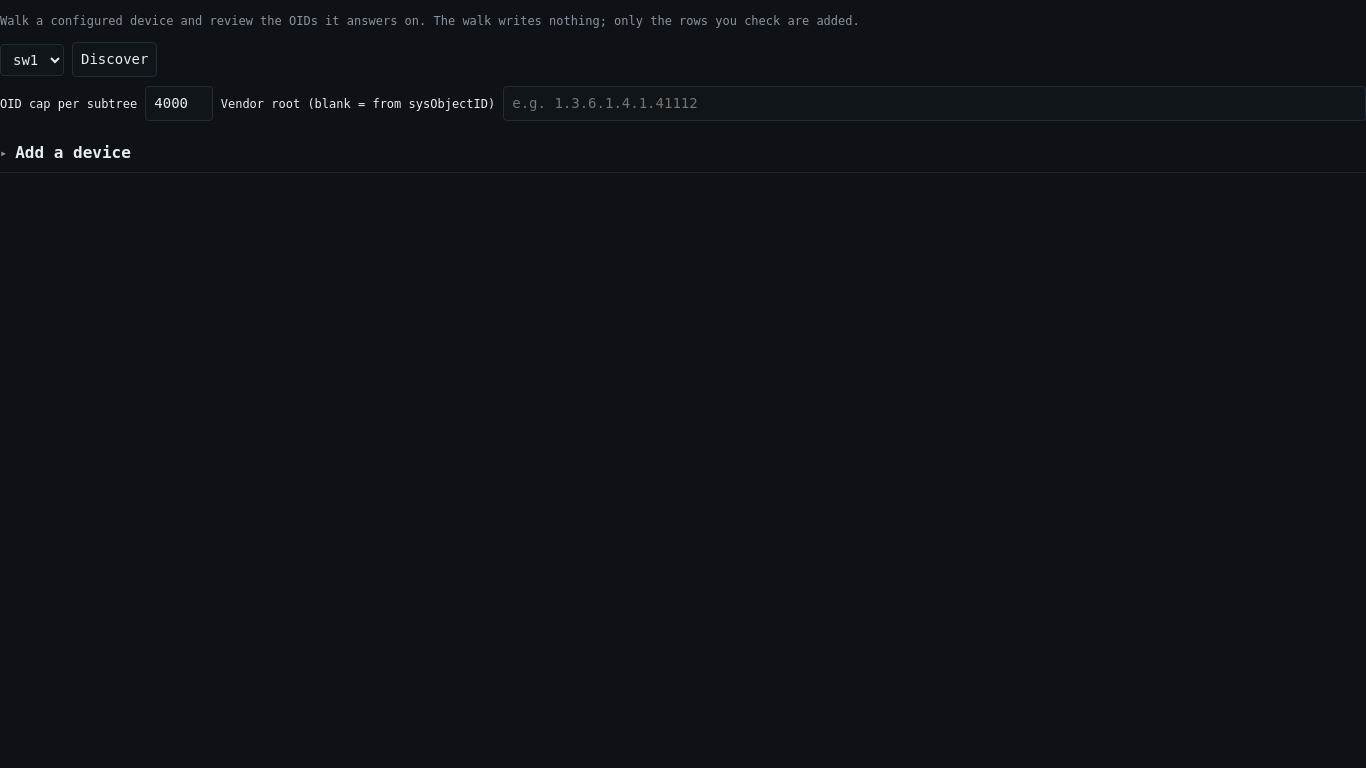
Test: opens the shared token dialog on a 401 apply
Click the button "Discover" at (115, 60), box [72,42,157,77]
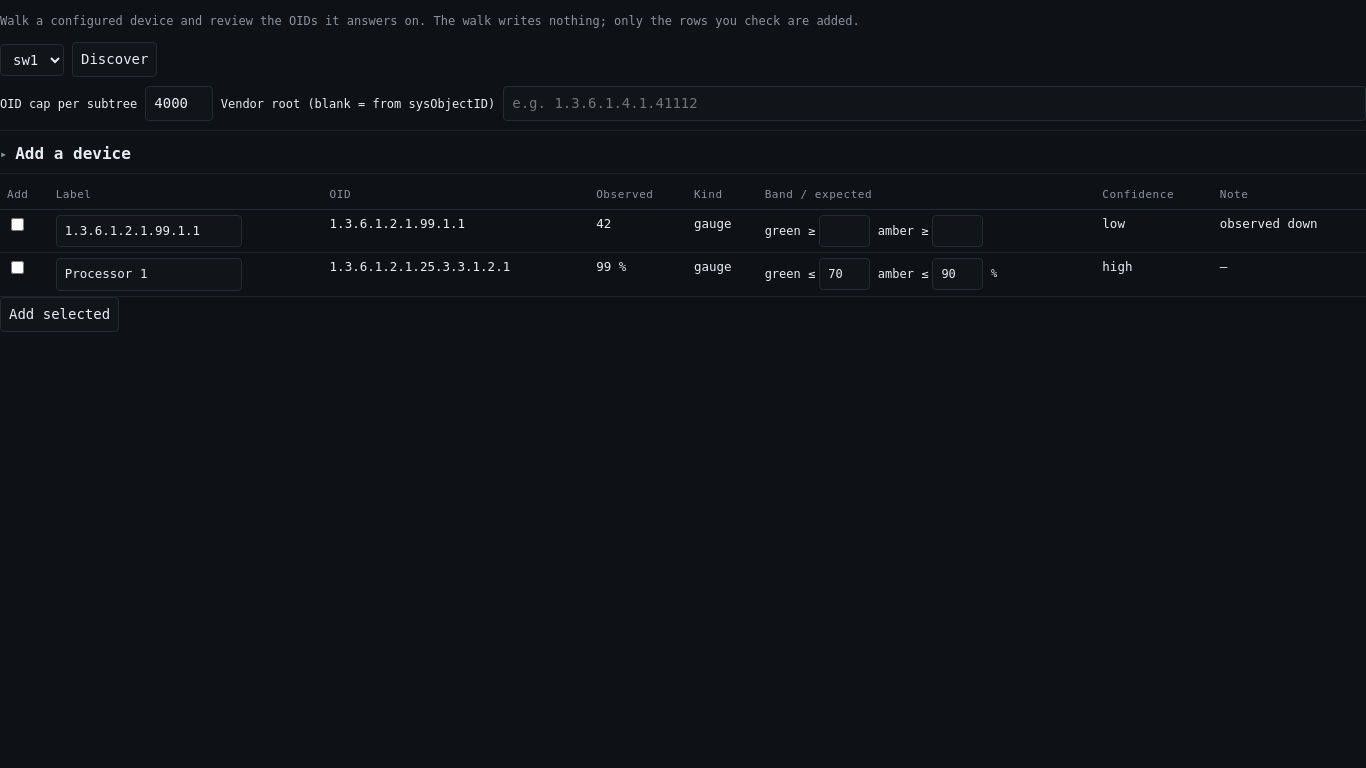
Type "100" into the number field labelled "green ≥" at (844, 230), box [819,214,870,246]
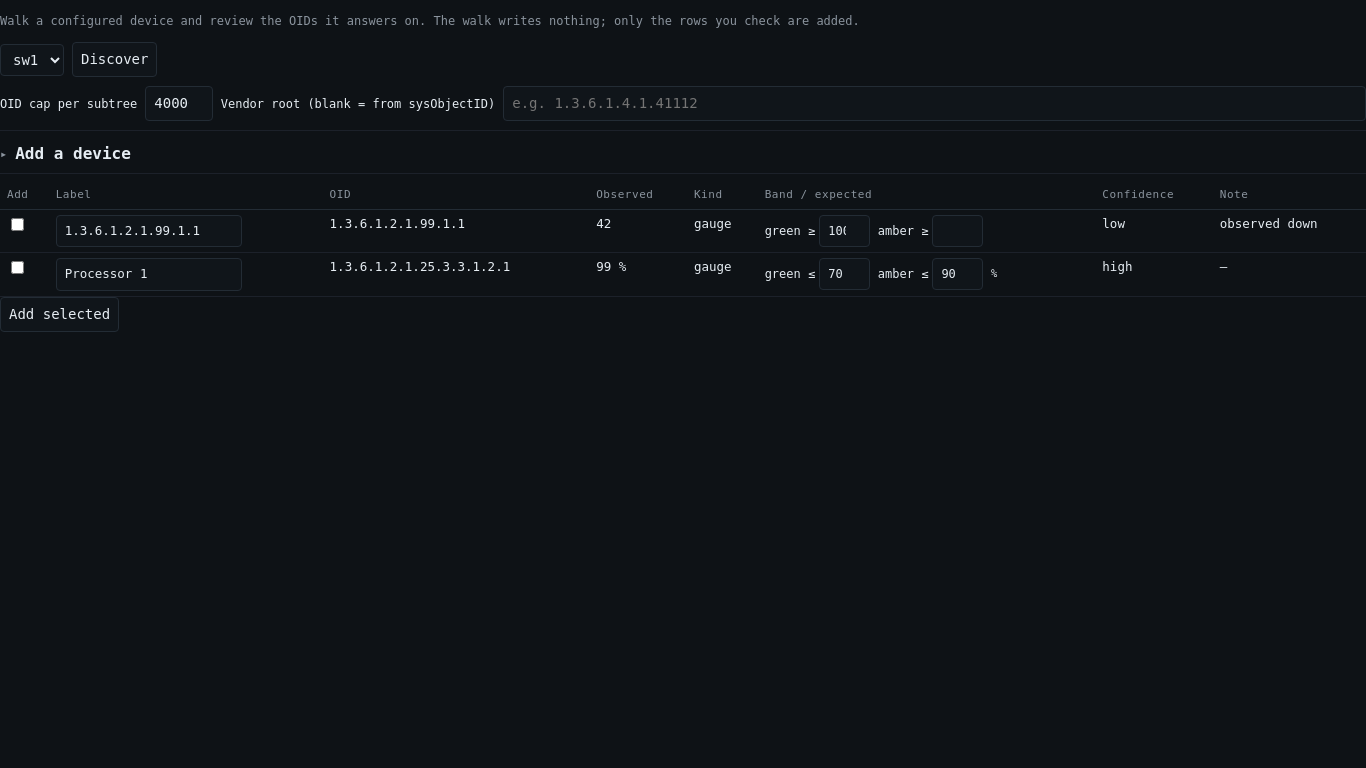
Type "80" into the number field labelled "amber ≥" at (958, 230), box [932,214,983,246]
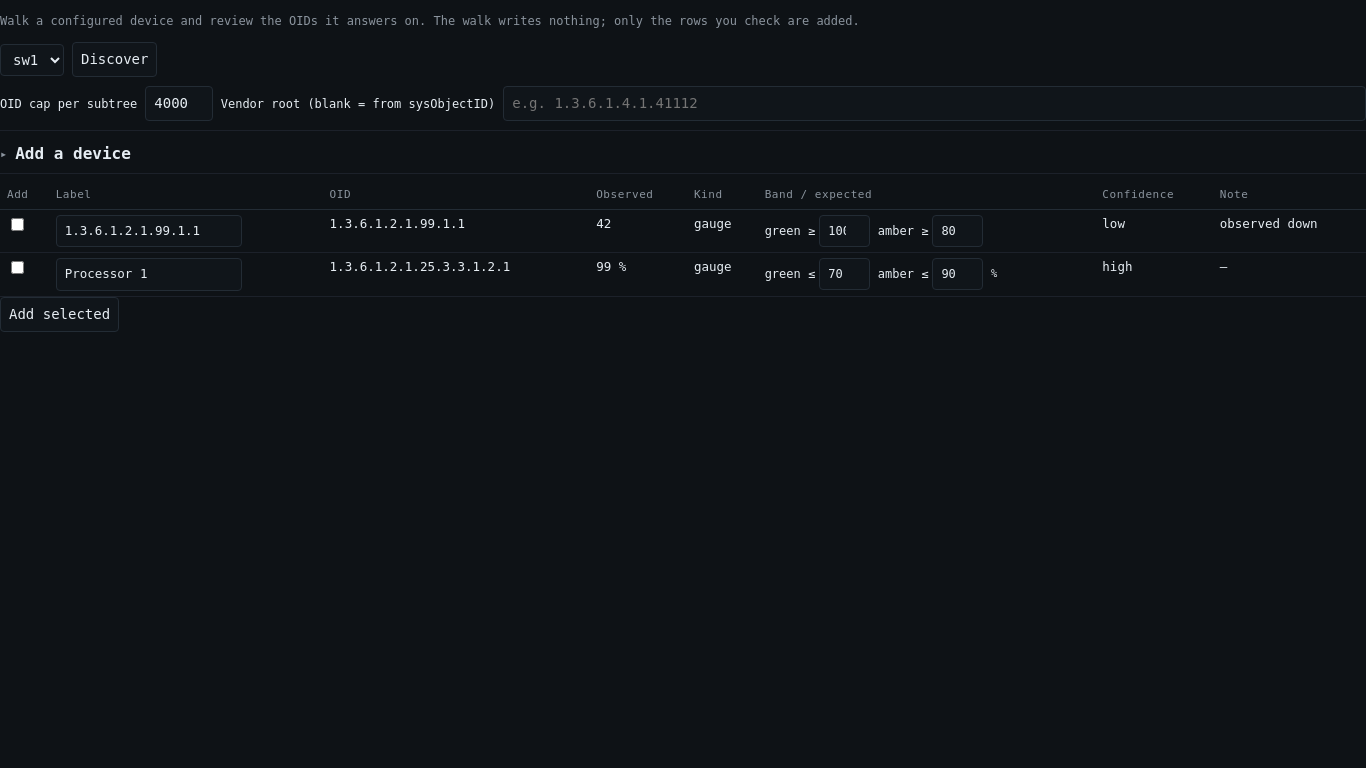
Click the checkbox named "Add 1.3.6.1.2.1.99.1.1" at (18, 224), box [11,218,24,230]
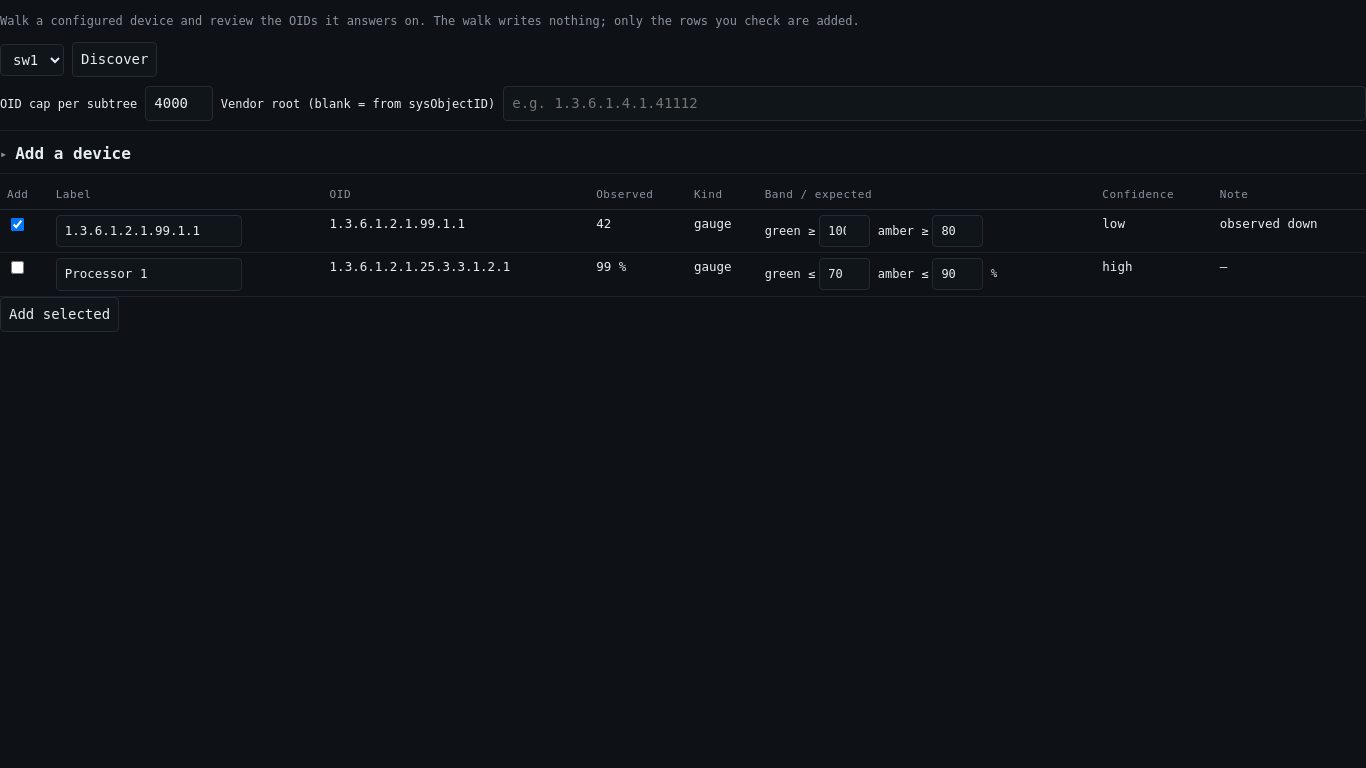
Click the button "Add selected" at (60, 314), box [0,297,119,332]
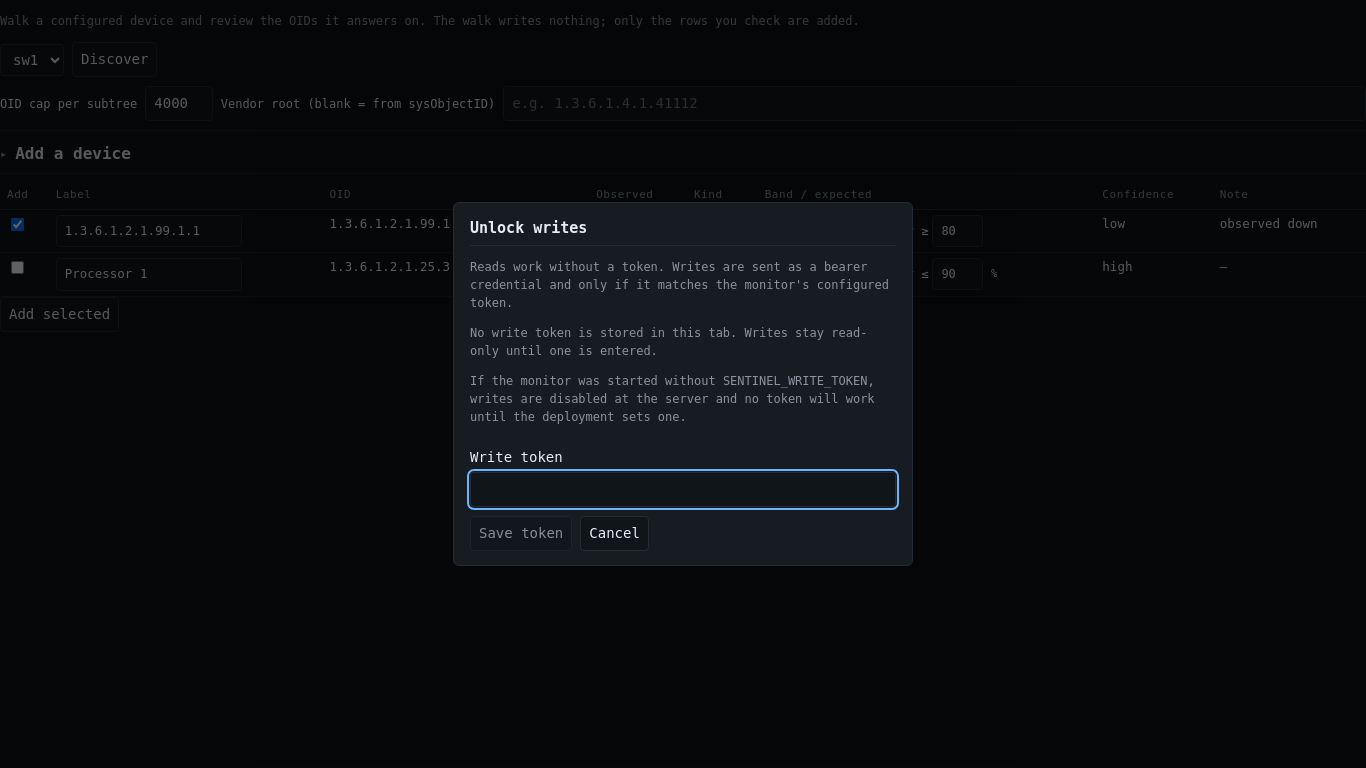
Check: the dialog is shown, box [453,202,913,566]
Check: the heading "Unlock writes" is shown, box [470,217,896,246]
